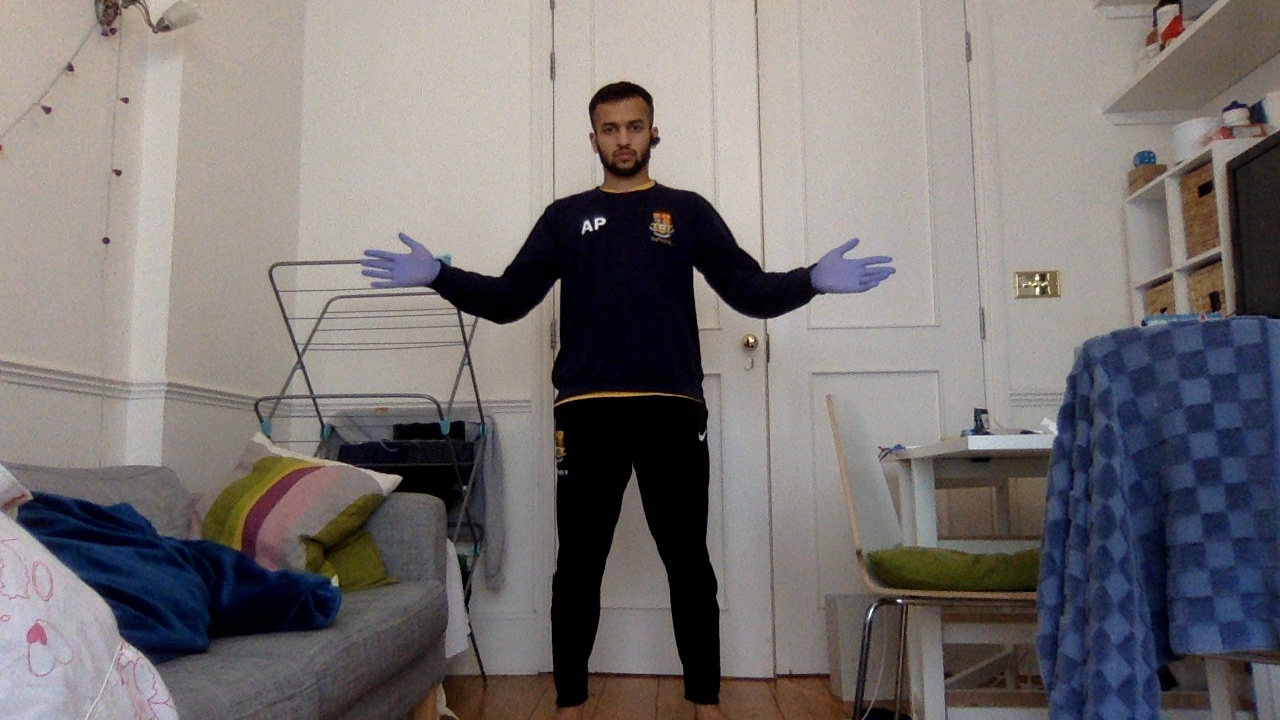glove: (808, 237, 897, 301), (362, 229, 438, 296)
